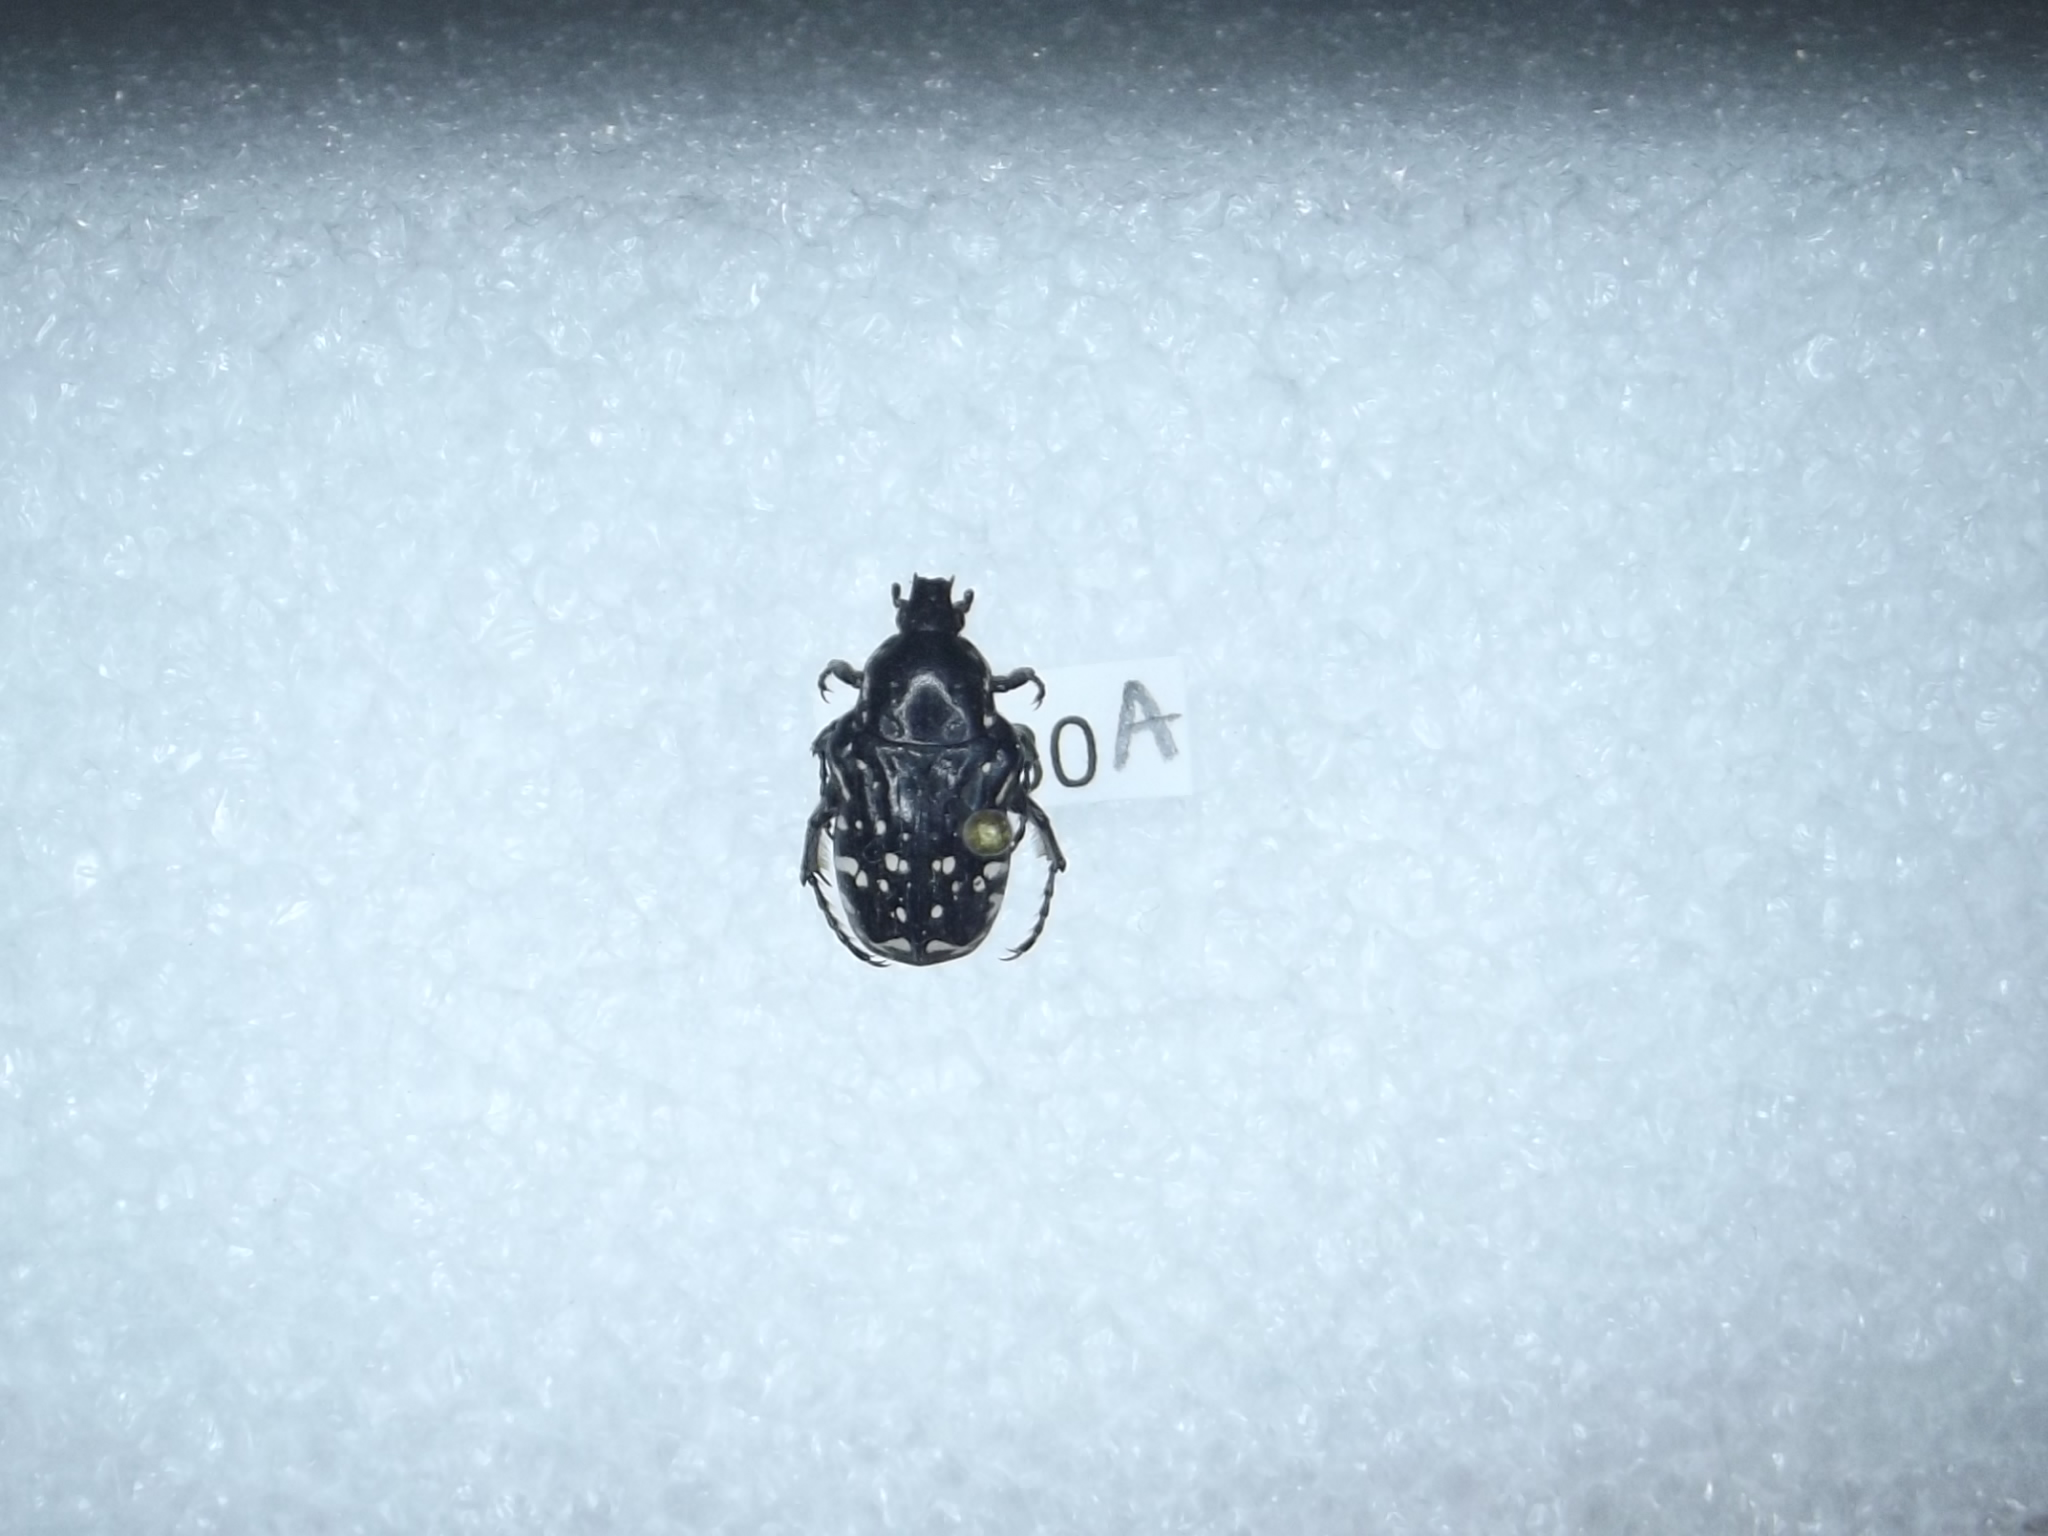Oxythyrea_albopicta: (789, 565, 1097, 987)
